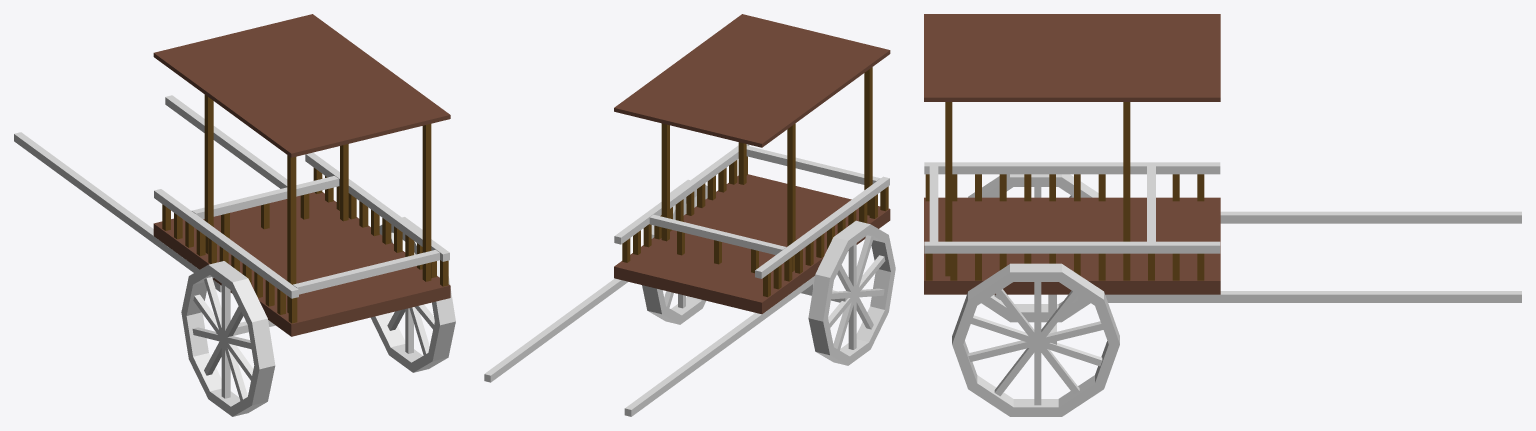
Rendered from kalesa.fbx.
3 views of the same model, side by side, from view 1: azimuth 30°, elevation 25°; view 2: azimuth 150°, elevation 25°; view 3: azimuth 270°, elevation 25° (orthographic). The views are drawn at different scales.
Visible parts, largest first — view 1: Cube.047, Cube, Cube.041, Cube.036, Cube.049, Cube.001, Cube.026, Cube.027, Cube.048, Cube.028, Cube.046, Cube.044 (+2 smaller); view 2: Cube.047, Cube, Cube.041, Cube.049, Cube.048, Cube.001, Cube.036, Cube.026, Cube.028, Cube.027, Cube.044, Cube.045 (+1 smaller); view 3: Cube.047, Cube, Cube.036, Cube.048, Cube.049, Cube.026, Cube.001, Cube.041, Cube.046, Cube.043, Cube.027, Cube.028.
Part boxes in pixels (left/top/right/bottom): Cube.047: left=153, top=14, right=450, bottom=157; Cube: left=153, top=192, right=450, bottom=336; Cube.041: left=181, top=261, right=275, bottom=416; Cube.036: left=370, top=217, right=455, bottom=372; Cube.049: left=14, top=132, right=221, bottom=292; Cube.001: left=154, top=189, right=298, bottom=298; Cube.026: left=305, top=152, right=449, bottom=261; Cube.027: left=293, top=249, right=439, bottom=294; Cube.048: left=165, top=95, right=287, bottom=188; Cube.028: left=192, top=176, right=338, bottom=219; Cube.046: left=422, top=124, right=431, bottom=281; Cube.044: left=204, top=94, right=213, bottom=253; Cube.047: left=614, top=14, right=890, bottom=147; Cube: left=614, top=174, right=890, bottom=314; Cube.041: left=808, top=220, right=895, bottom=365; Cube.049: left=624, top=276, right=814, bottom=416; Cube.048: left=484, top=278, right=628, bottom=382; Cube.001: left=755, top=176, right=889, bottom=278; Cube.036: left=642, top=179, right=716, bottom=324; Cube.026: left=614, top=144, right=749, bottom=244; Cube.028: left=649, top=214, right=786, bottom=254; Cube.027: left=746, top=146, right=880, bottom=184; Cube.044: left=787, top=123, right=795, bottom=271; Cube.045: left=864, top=67, right=872, bottom=215; Cube.047: left=924, top=14, right=1220, bottom=101; Cube: left=924, top=197, right=1220, bottom=294; Cube.036: left=952, top=263, right=1119, bottom=416; Cube.048: left=1077, top=291, right=1521, bottom=302; Cube.049: left=1220, top=211, right=1521, bottom=223; Cube.026: left=924, top=241, right=1220, bottom=253; Cube.001: left=924, top=162, right=1220, bottom=174; Cube.041: left=968, top=174, right=1098, bottom=322; Cube.046: left=945, top=102, right=952, bottom=276; Cube.043: left=1123, top=102, right=1130, bottom=241; Cube.027: left=929, top=166, right=938, bottom=241; Cube.028: left=1147, top=166, right=1155, bottom=241.
Size of what is drawn, in the model's own units: 494 by 692 by 1210.
